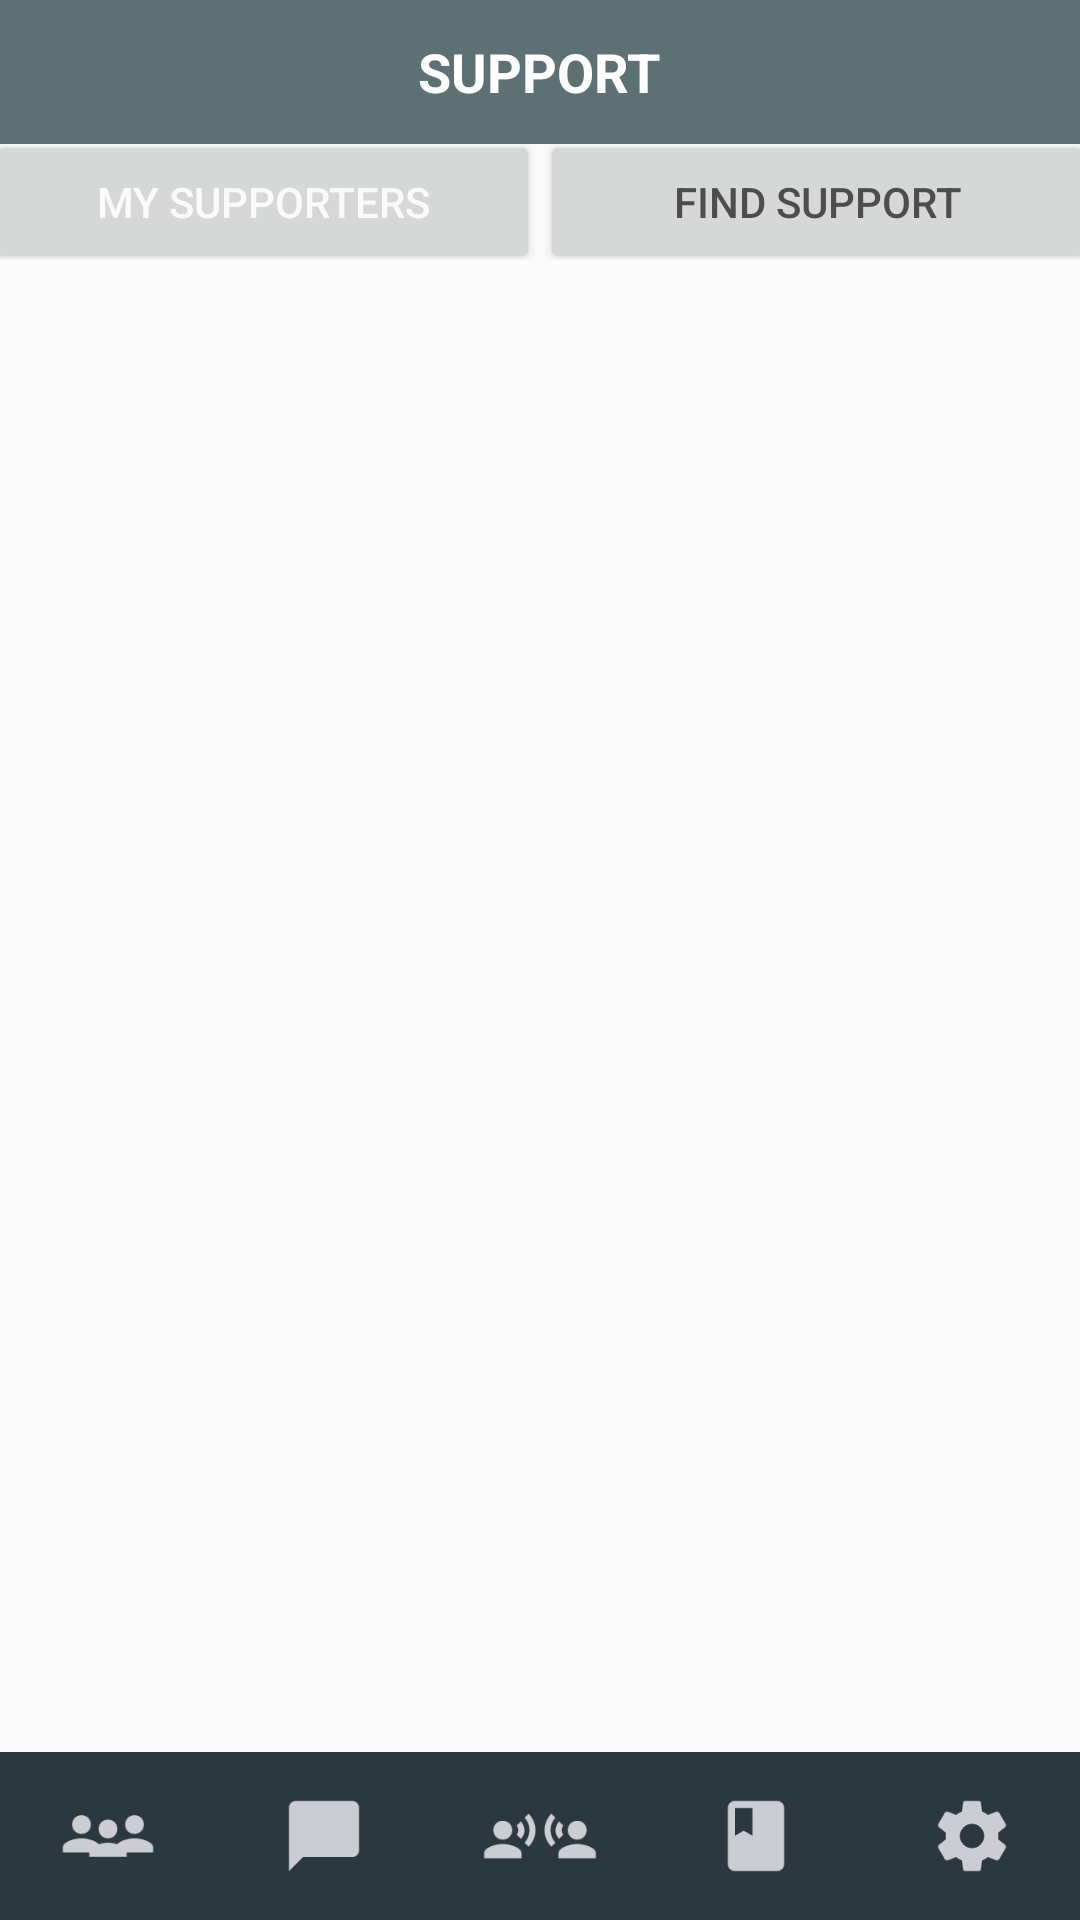

Locate icon controls on the screen. Image size 1080*1920, boxes as [x1, y1, x2, y2].
conversation: [484, 1814, 596, 1859]
friends: [62, 1815, 154, 1857]
learn: [727, 1800, 785, 1872]
messages: [288, 1800, 360, 1871]
settings: [938, 1800, 1006, 1872]
